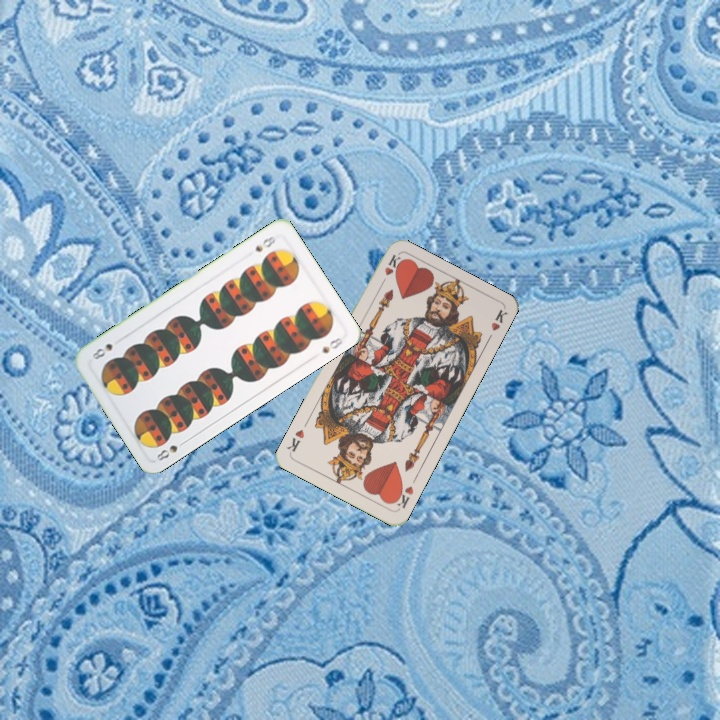HK: (376, 250, 403, 289), (389, 482, 416, 511)
S8: (152, 436, 189, 463), (251, 232, 278, 255)
